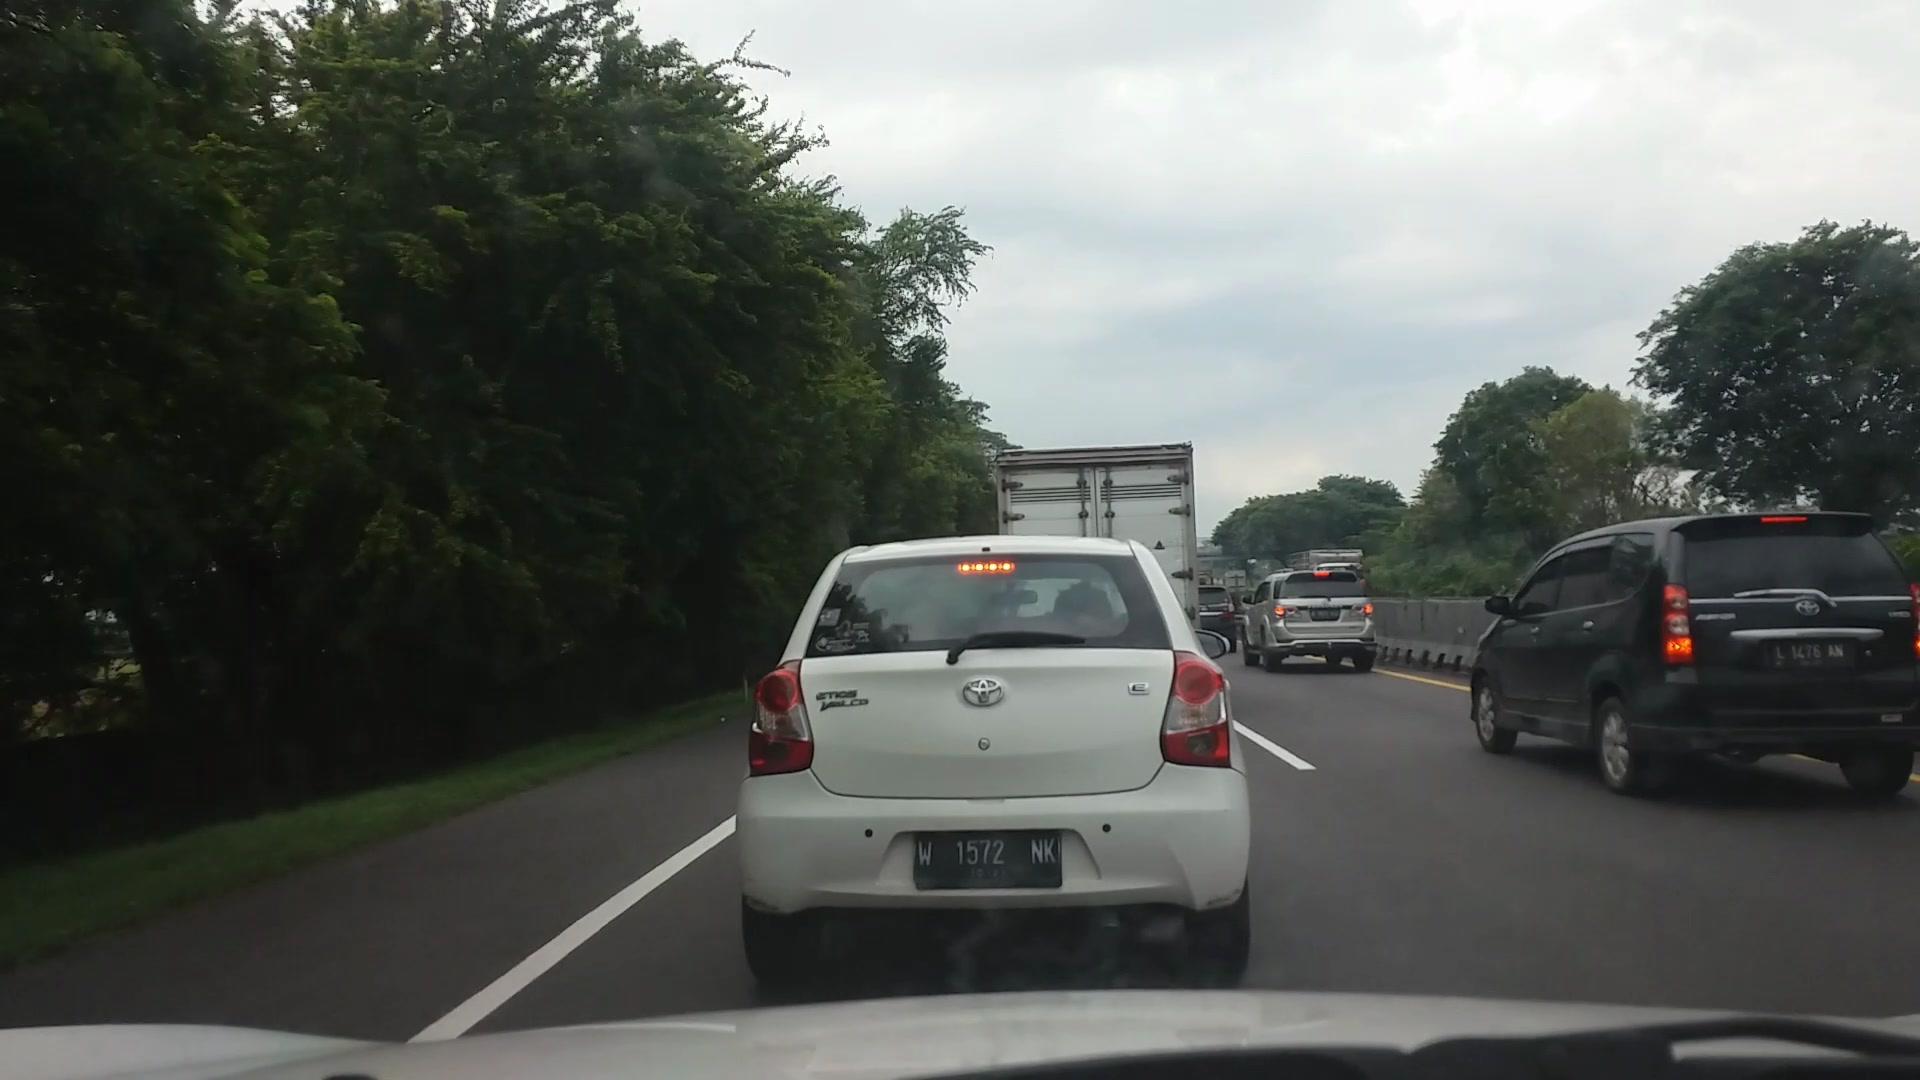plate_positive: (914, 832, 1062, 889)
